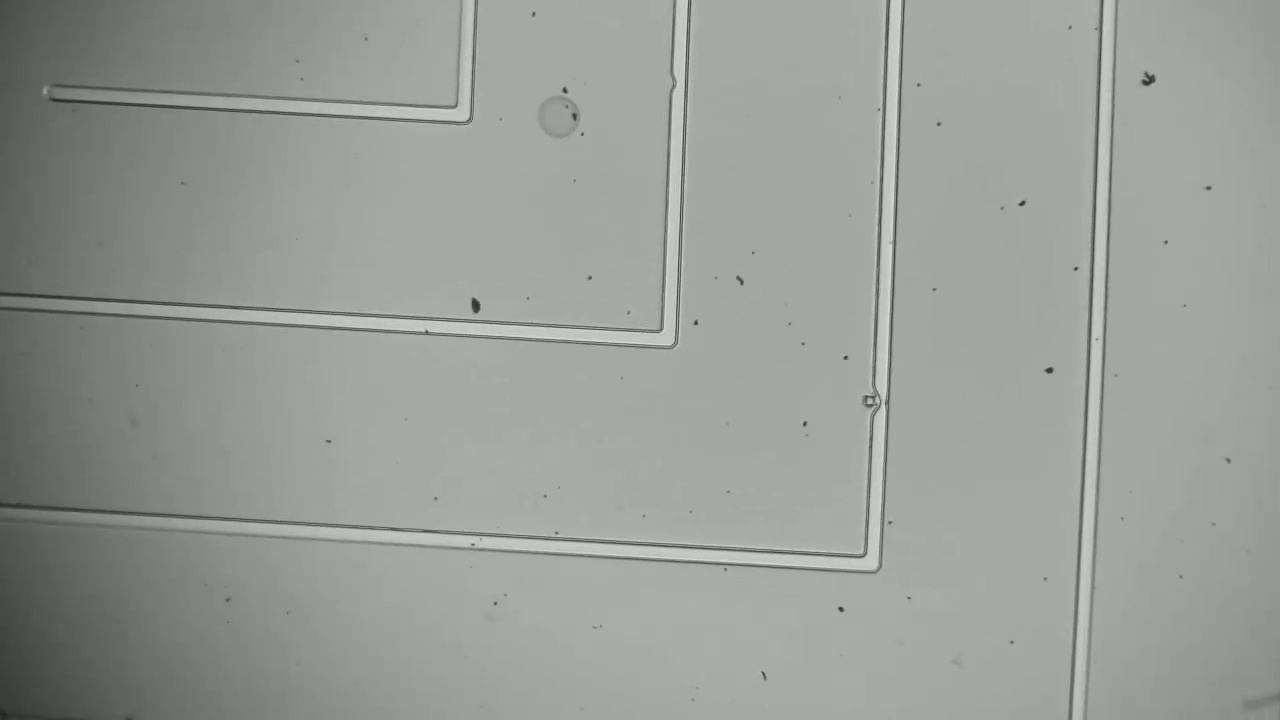edge_bite: (857, 377, 894, 429), (659, 65, 695, 102)
